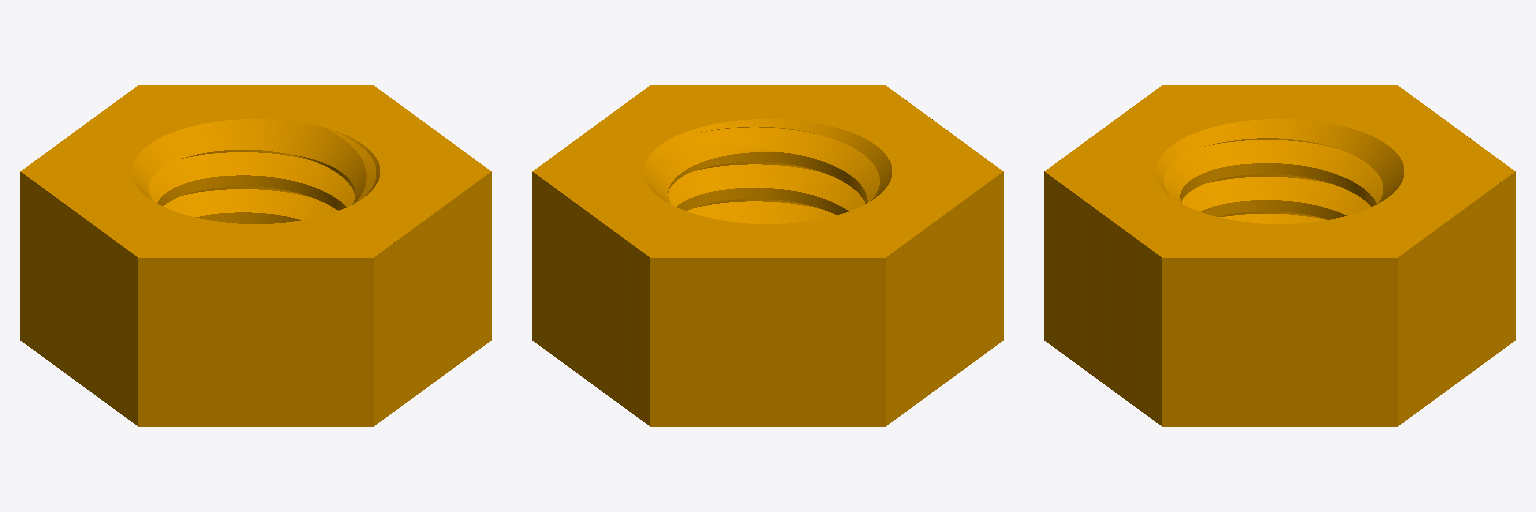
URDF robot description (factory_nut_m4_loose):
<?xml version="1.0"?>
<robot name="factory_nut_m4_loose">
    <link name="factory_nut_m4_loose">
        <visual>
            <geometry>
                <mesh filename="../mesh/factory_nut_bolt/factory_nut_m4_loose_subdiv_3x.obj"/>
            </geometry>
        </visual>
        <collision>
            <geometry>
                <mesh filename="../mesh/factory_nut_bolt/factory_nut_m4_loose_subdiv_3x.obj"/>
            </geometry>
            <sdf resolution="256"/>
        </collision>
    </link>
</robot>

--- What the picture shows (computed from the rendered views, not written in the file) ---
The picture shows the robot from 3 angles, left to right: view 1: azimuth 30°, elevation 25°; view 2: azimuth 150°, elevation 25°; view 3: azimuth 270°, elevation 25°; orthographic projection.
Robot: factory_nut_m4_loose — 1 links, 0 joints (none); root link factory_nut_m4_loose; default pose: all joints at 0.
Visible links, largest first — view 1: factory_nut_m4_loose; view 2: factory_nut_m4_loose; view 3: factory_nut_m4_loose.
Boxes of the visible links, x1,y1,x2,y2 form: factory_nut_m4_loose: [20, 85, 491, 426]; factory_nut_m4_loose: [532, 85, 1003, 426]; factory_nut_m4_loose: [1044, 85, 1515, 426].
Size in the robot's own frame: 0.007 by 0.0081 by 0.0032 metres.
Meshes: 1 distinct files referenced, 1 mesh visuals loaded (1 OBJ).